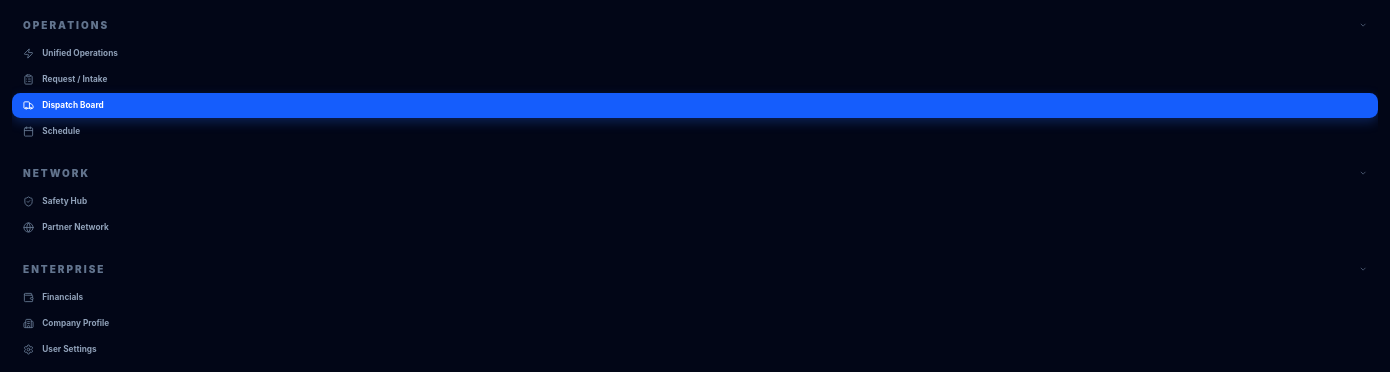
Test case: SidebarTree › collapses a category when its header is clicked
This screenshot has width=1390, height=372.
Expected: the button "Dispatch Board" is shown, [12,93,1378,118]
Note: Click the Operations category header to collapse
Click the button "Operations": (66, 24) [12,12,1378,38]
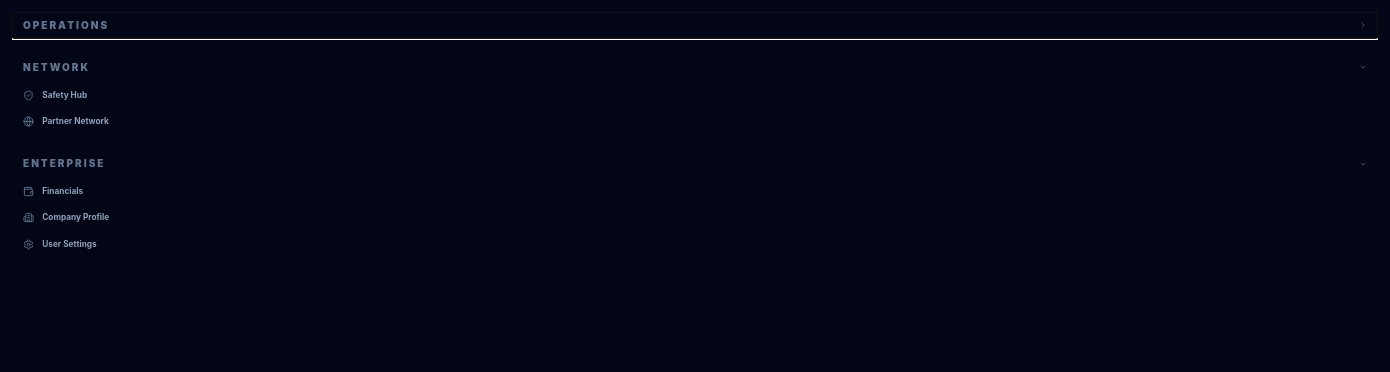
Now the button "Dispatch Board" is gone
Now the button "Unified Operations" is gone
